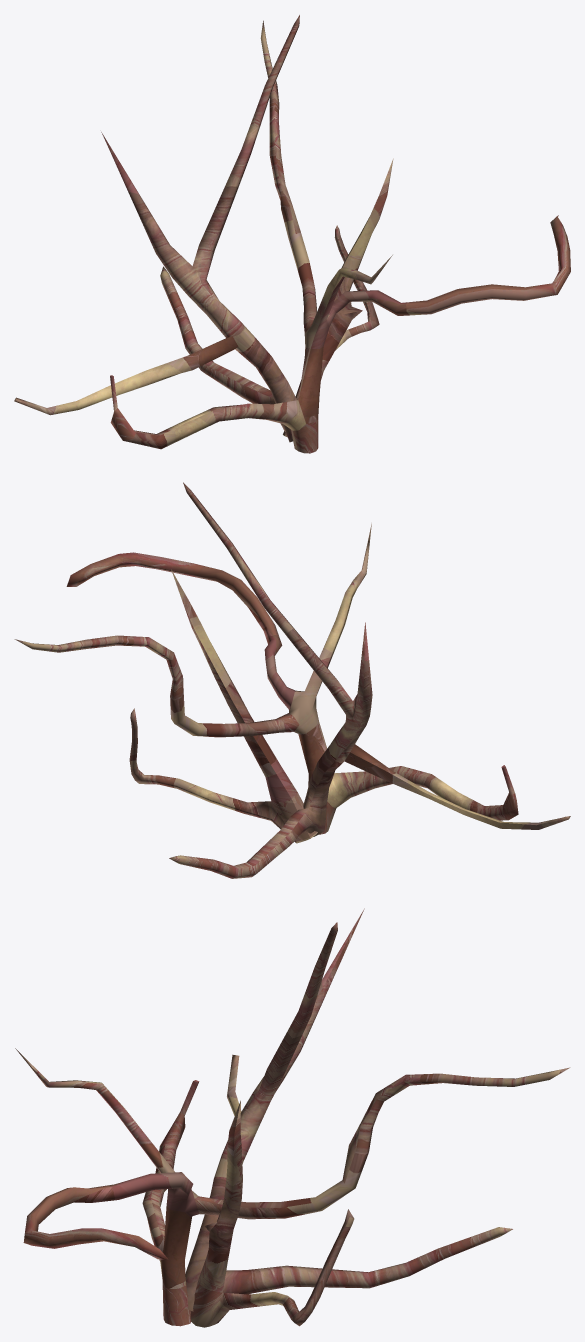
The model's file is PF_Desertnew_Tree02.fbx.
3 views of the same model, one above another, from view 1: azimuth 30°, elevation 25°; view 2: azimuth 150°, elevation 25°; view 3: azimuth 270°, elevation 25° (orthographic). The views are drawn at different scales.
Parts seen in each view (by area): view 1: PF_Desertnew_Tree02; view 2: PF_Desertnew_Tree02; view 3: PF_Desertnew_Tree02.
Boxes of the visible parts, x1,y1,x2,y2 form: PF_Desertnew_Tree02: (14, 15, 570, 453); PF_Desertnew_Tree02: (14, 482, 570, 878); PF_Desertnew_Tree02: (15, 908, 570, 1327).
Size of the model in its own units: 38.44 by 26.7 by 30.84.
